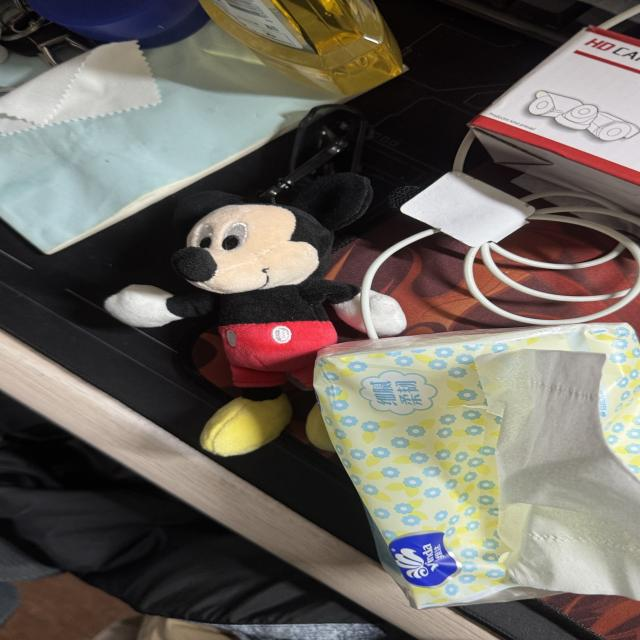mickey: (105, 173, 372, 455)
tissue: (315, 324, 639, 608), (0, 42, 160, 134)
